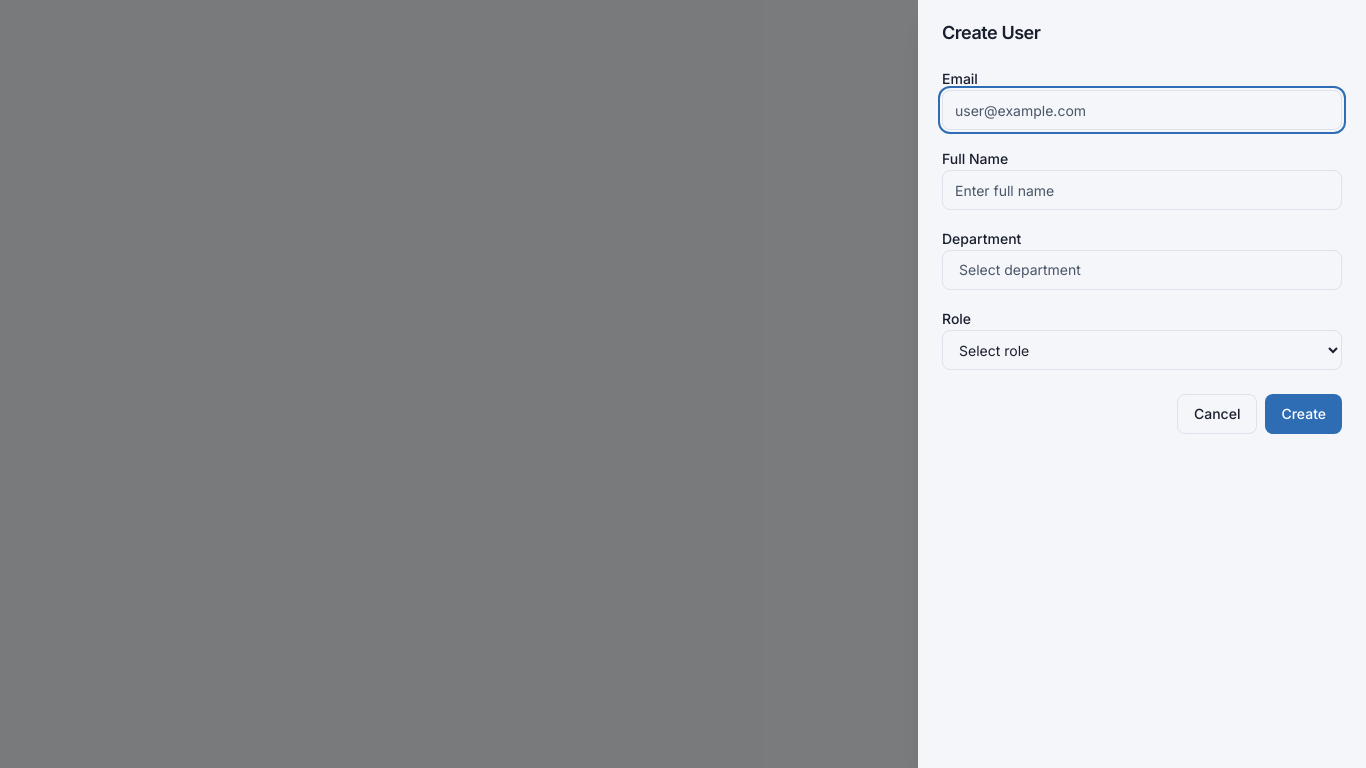
UserCreateDrawer — ISS-018 regression › renders department options from GET /api/v1/departments
This screenshot has width=1366, height=768.
# Wait for the department selector to show the placeholder (loading resolved)
Click the dropdown "Select department". click: (1020, 270)
box: 942,250 -> 1342,290
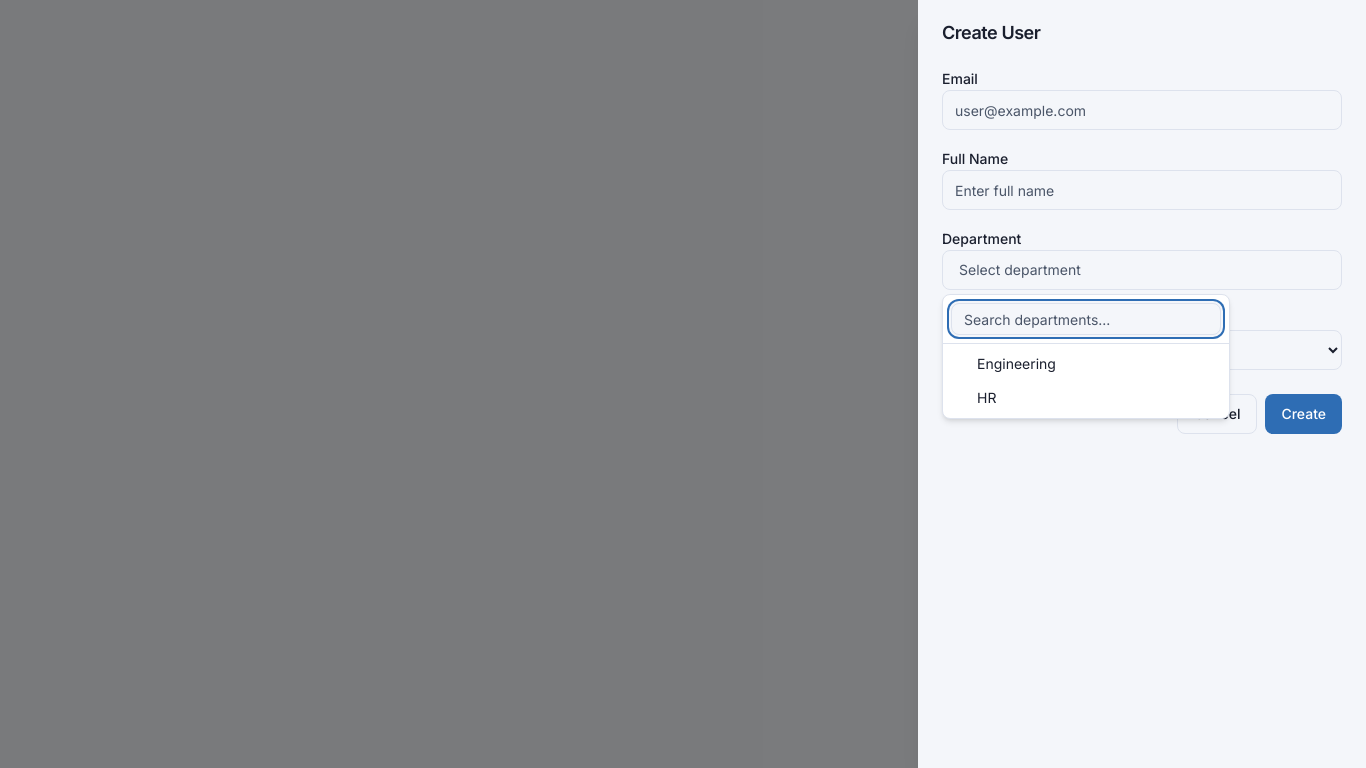
Expected: the list item "Engineering" is shown, 977,355 -> 1056,372
Expected: the list item "HR" is shown, 977,389 -> 996,406
